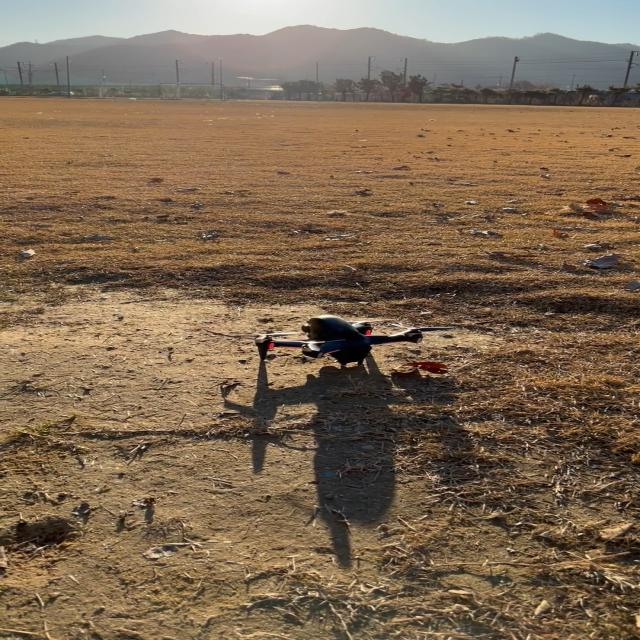Drone: (283, 316, 423, 368)
